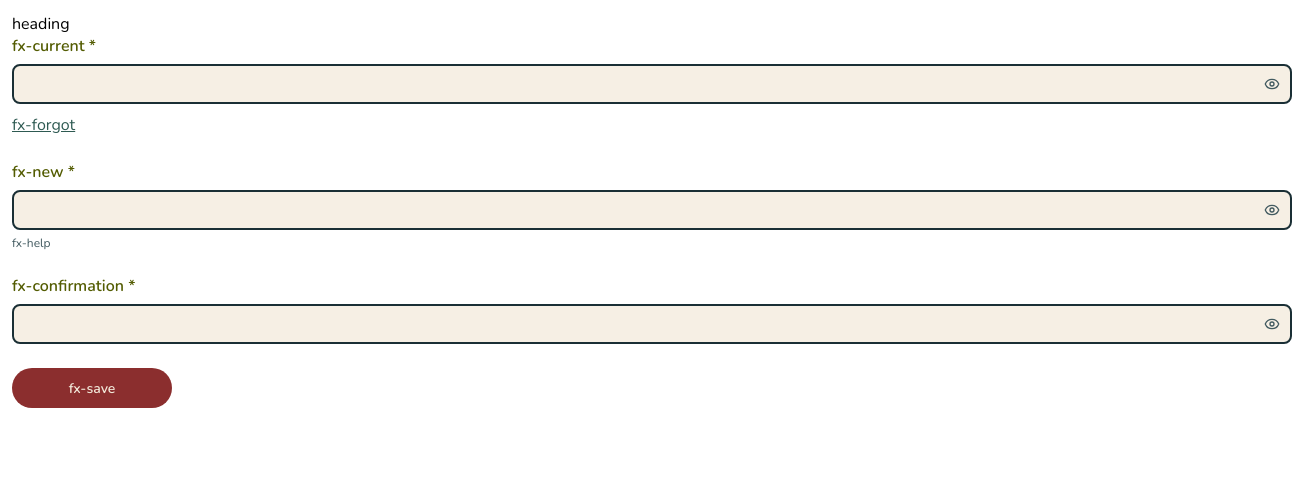
it: PasswordForm — client checks › an empty field shows requiredError, is invalid, the first failing field takes focus and nothing is sent
The image size is (1304, 500).
Type "New12345" into the password field labelled "fx-confirmation *".
click(652, 324); type("New12345")  # box [12, 304, 1292, 344]
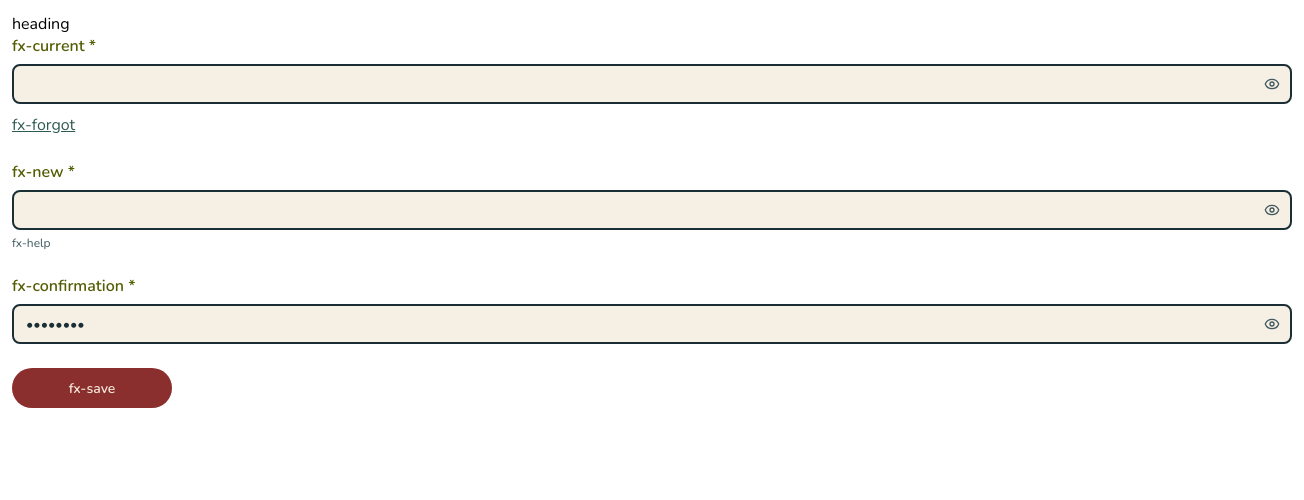
Click the button "fx-save".
click(92, 388)  # box [12, 368, 172, 408]
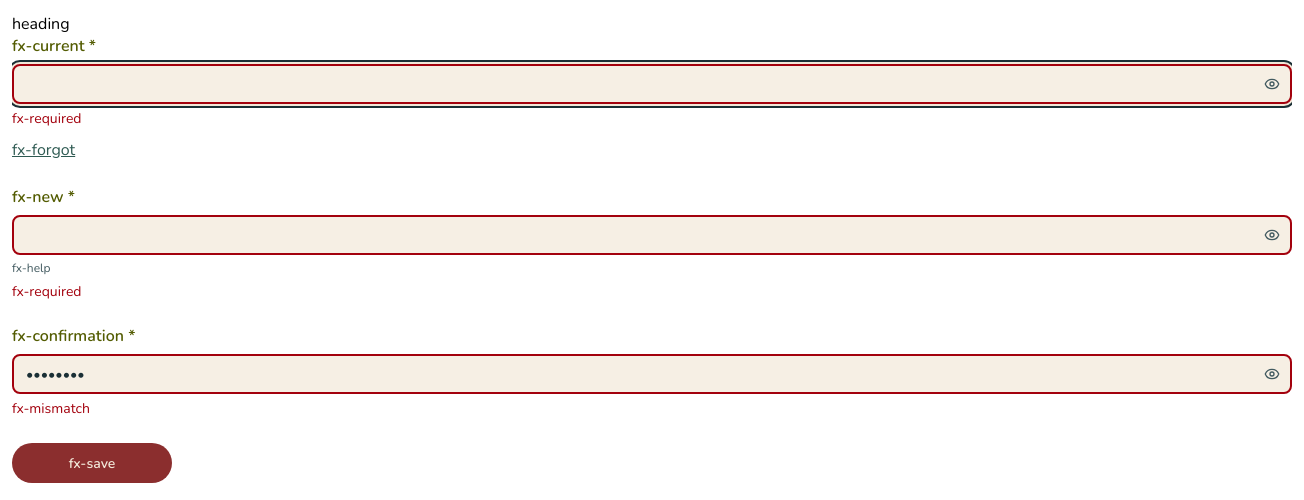
Expected: the text "fx-required" is shown 2 times, [12, 109, 82, 128]; [12, 282, 82, 301]
